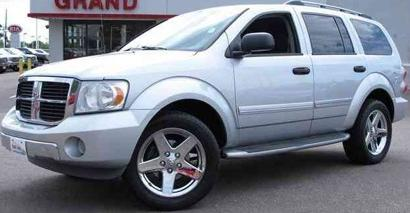front_view: (13, 74, 147, 181)
headlight: (67, 73, 138, 118)
side_glass: (237, 3, 360, 65)
